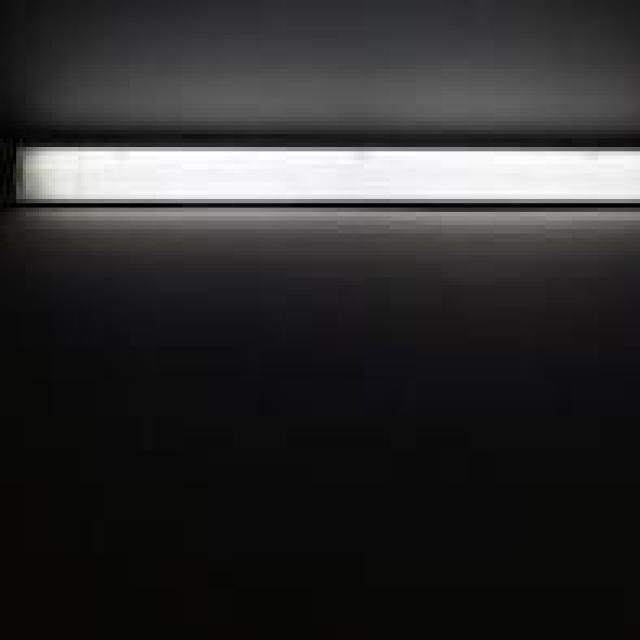tubelight_on: (10, 138, 640, 218)
